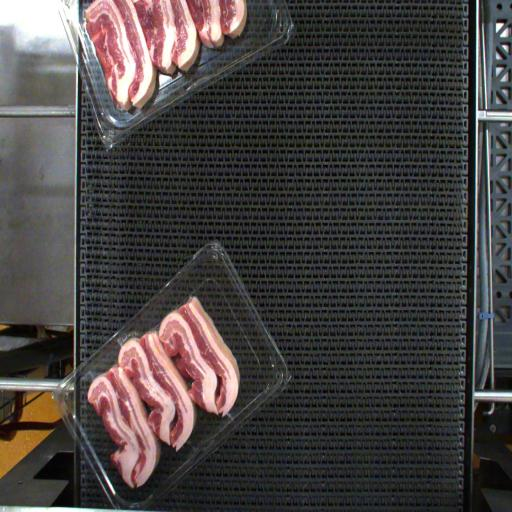packaging-error: (114, 326, 148, 345)
